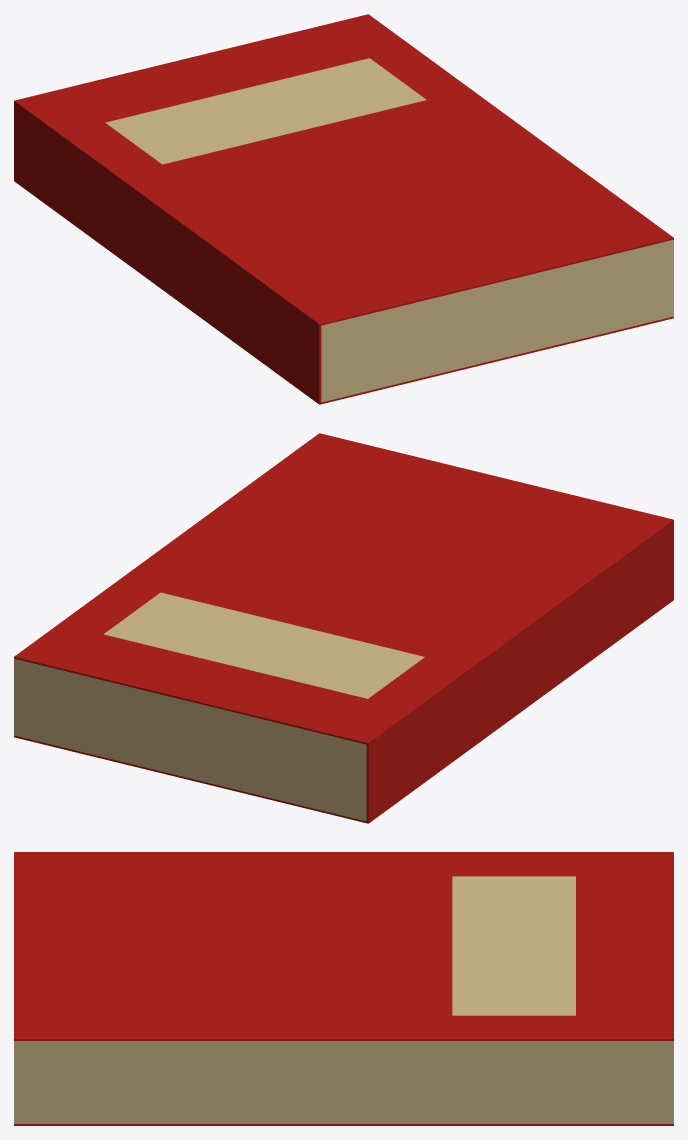
The model's file is Book12.fbx.
The picture shows the model from 3 angles, top to bottom: view 1: azimuth 30°, elevation 25°; view 2: azimuth 150°, elevation 25°; view 3: azimuth 270°, elevation 25°; orthographic projection. The views are drawn at different scales.
Visible parts, largest first — view 1: Cube; view 2: Cube; view 3: Cube.
Boxes of the visible parts, x1,y1,x2,y2 form: Cube: (14,14,673,404); Cube: (14,433,673,823); Cube: (14,852,673,1125).
Bounding box in the file's own units: 0.3015 × 0.0654 × 0.45.
